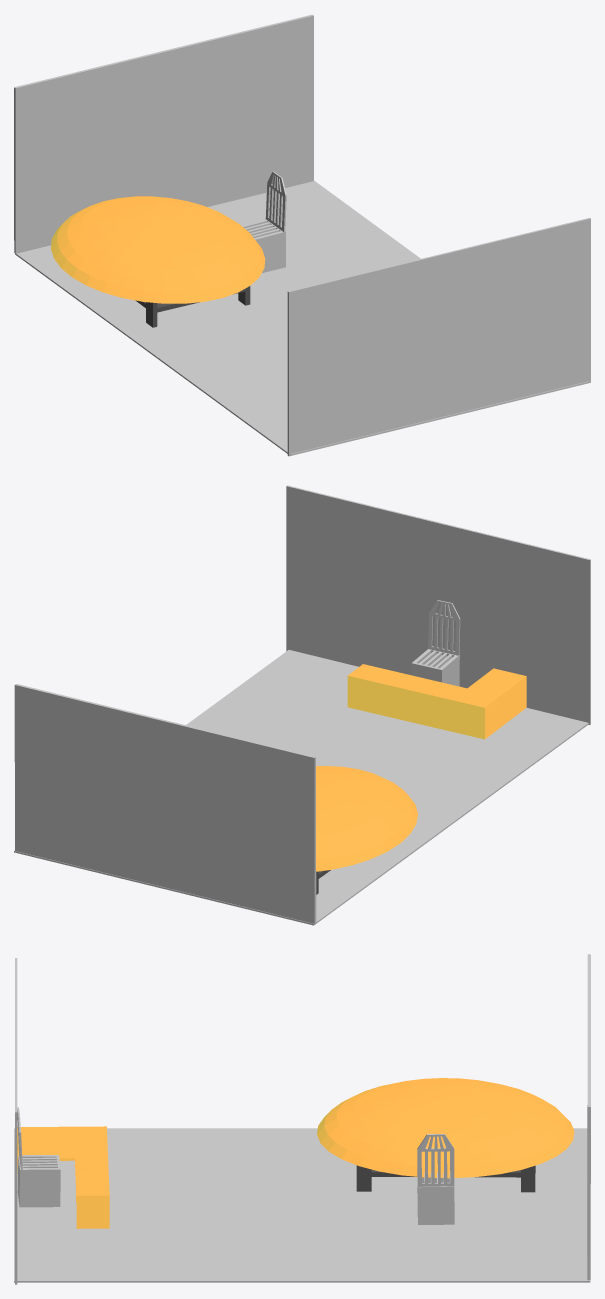
File: table.fbx
3 renders of one model, top to bottom at view 1: azimuth 30°, elevation 25°; view 2: azimuth 150°, elevation 25°; view 3: azimuth 270°, elevation 25°, orthographic. The views are drawn at different scales.
Visible parts, largest first — view 1: Plane.002, Plane.001, Plane, Sphere, Plane.005, Plane.004, Plane.003; view 2: Plane.001, Plane.002, Plane, Cube, Sphere, Plane.007, Plane.006; view 3: Plane, Sphere, Cube, Plane.007, Plane.005, Plane.004, Plane.001, Plane.003, Plane.002.
Part boxes in pixels (x1=…): Plane.002: x1=287, y1=217, x2=590, y2=456; Plane.001: x1=14, y1=14, x2=313, y2=253; Plane: x1=15, y1=180, x2=588, y2=455; Sphere: x1=51, y1=196, x2=265, y2=303; Plane.005: x1=241, y1=219, x2=285, y2=272; Plane.004: x1=265, y1=171, x2=286, y2=231; Plane.003: x1=135, y1=286, x2=250, y2=327; Plane.001: x1=14, y1=684, x2=316, y2=923; Plane.002: x1=286, y1=485, x2=590, y2=724; Plane: x1=14, y1=650, x2=588, y2=925; Cube: x1=347, y1=664, x2=526, y2=739; Sphere: x1=316, y1=766, x2=417, y2=871; Plane.007: x1=411, y1=649, x2=459, y2=686; Plane.006: x1=428, y1=600, x2=460, y2=655; Plane: x1=14, y1=1128, x2=590, y2=1282; Sphere: x1=317, y1=1078, x2=574, y2=1178; Cube: x1=17, y1=1126, x2=109, y2=1228; Plane.007: x1=17, y1=1155, x2=60, y2=1207; Plane.005: x1=417, y1=1172, x2=454, y2=1224; Plane.004: x1=417, y1=1134, x2=454, y2=1186; Plane.001: x1=587, y1=954, x2=590, y2=1280; Plane.003: x1=356, y1=1165, x2=535, y2=1192; Plane.002: x1=15, y1=958, x2=17, y2=1284.
Bounding box in the file's own units: 661 × 336 × 999.
